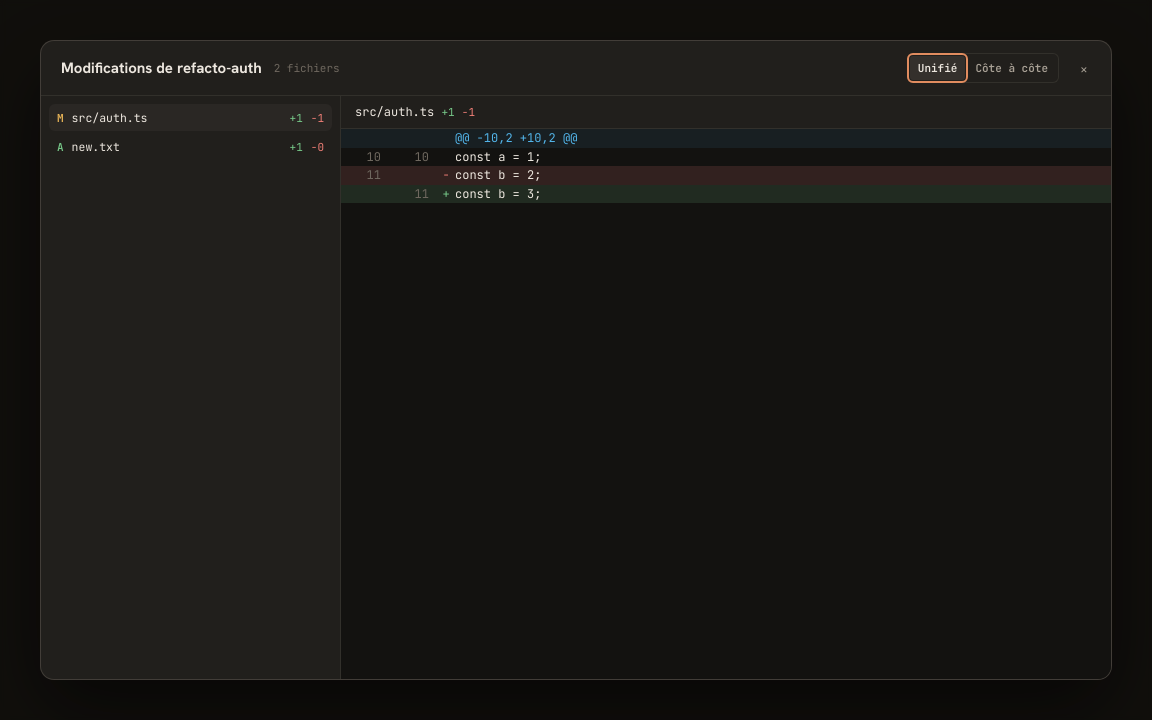
Test: DiffModal › shows old and new lines side by side and remembers the choice
The image size is (1152, 720).
Expected: the text "const b = 3;" is shown, 455,186 -> 541,202
Click the button "Côte à côte" at (1012, 68), box 967,56 -> 1056,80
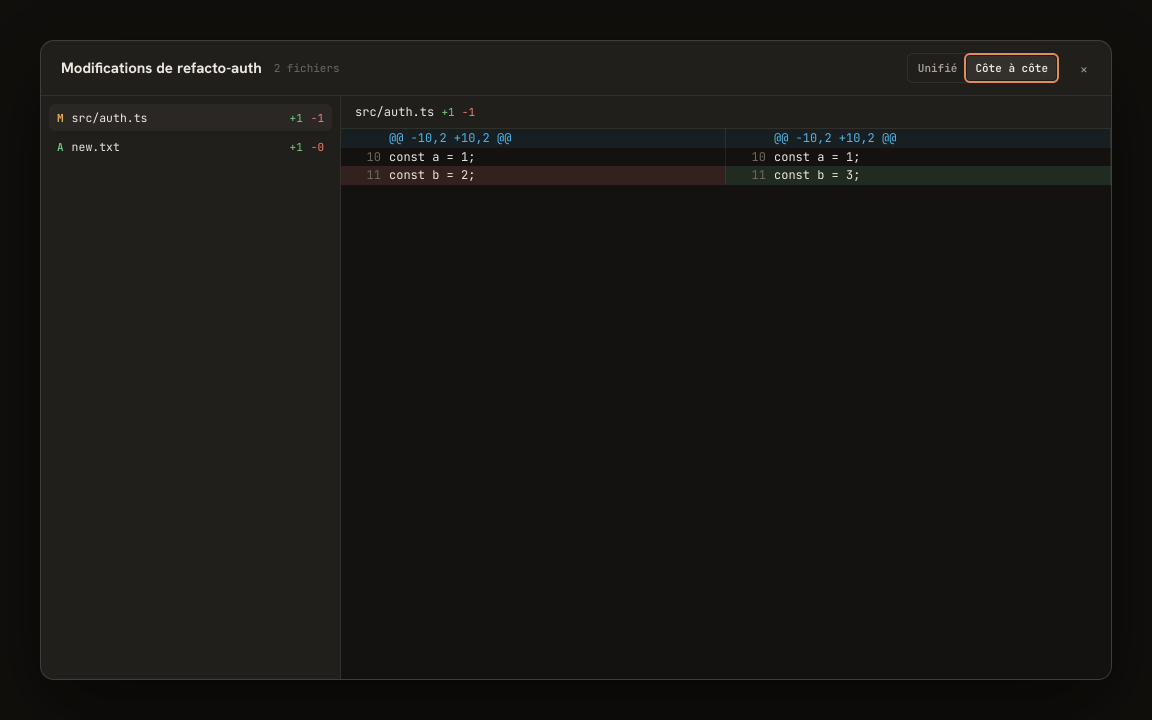
Now the text "const b = 2;" shows "const b = 3;", box 774,167 -> 860,183
